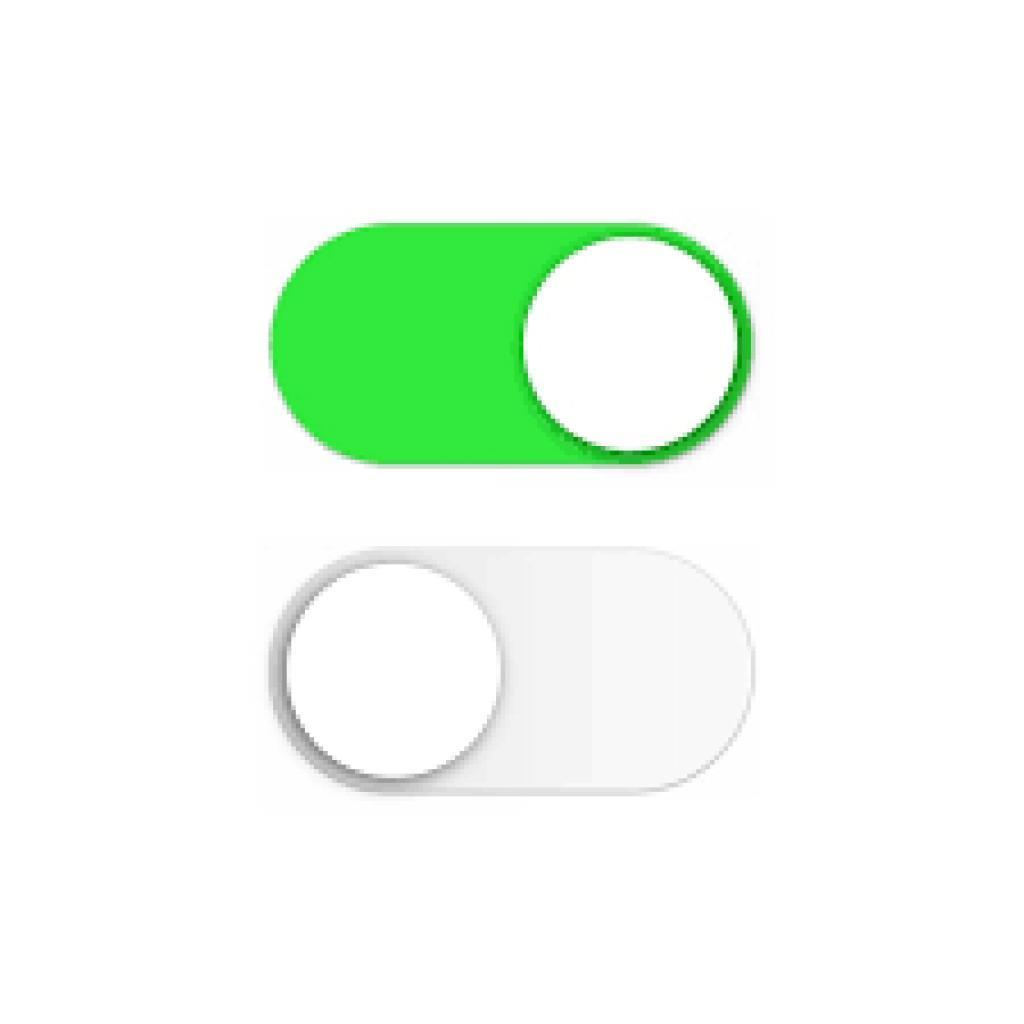switch: (262, 207, 780, 484), (269, 532, 773, 815)
